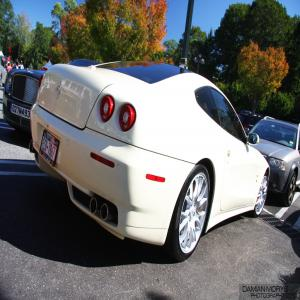Vehicle-registration-plate: (41, 131, 61, 168), (10, 103, 32, 121)
